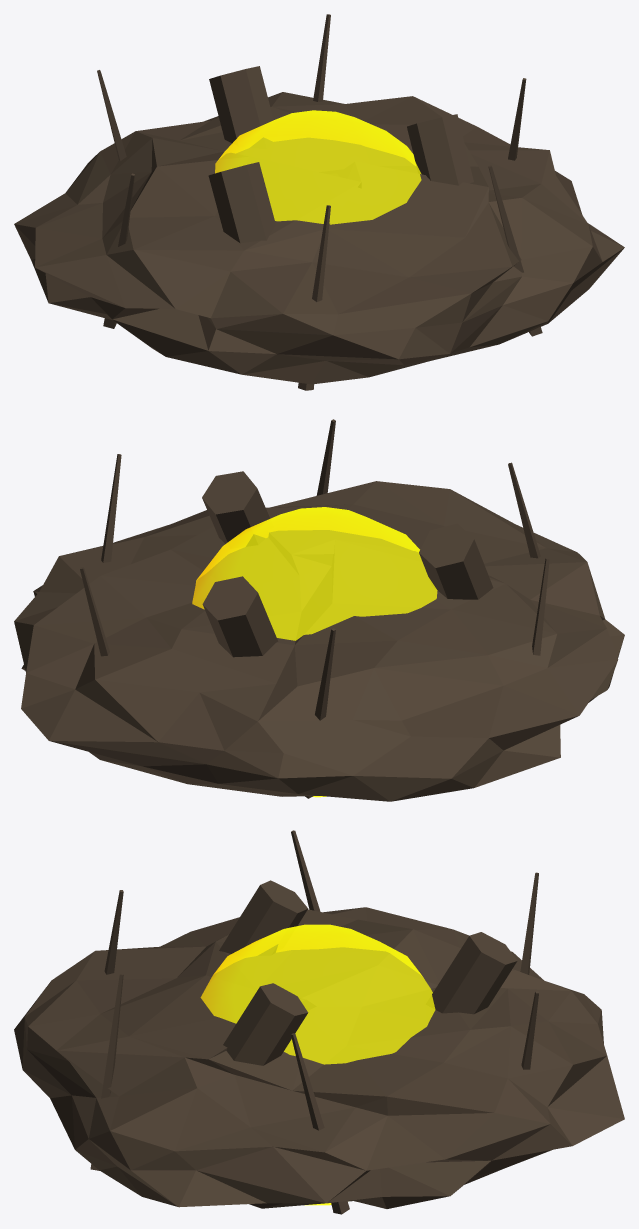
File: verdant_spawning_nest.glb
3 renders of one model, top to bottom at view 1: azimuth 30°, elevation 25°; view 2: azimuth 150°, elevation 25°; view 3: azimuth 270°, elevation 25°, orthographic. The views are drawn at different scales.
Parts seen in each view (by area): view 1: VerdantSpawningNest; view 2: VerdantSpawningNest; view 3: VerdantSpawningNest.
Part boxes in pixels (x1=…): VerdantSpawningNest: x1=14, y1=14, x2=624, y2=390; VerdantSpawningNest: x1=14, y1=419, x2=624, y2=801; VerdantSpawningNest: x1=14, y1=830, x2=624, y2=1214.
Bounding box in the file's own units: 4.1 × 1.86 × 3.95.
